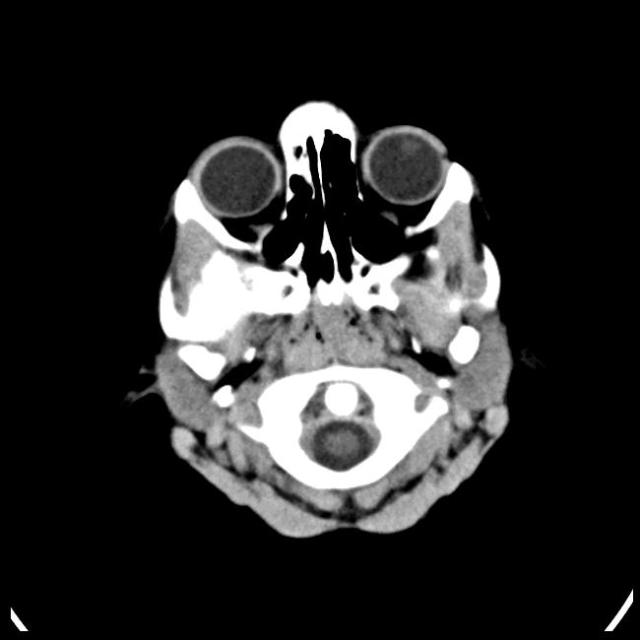lesion: (134, 96, 519, 542)
